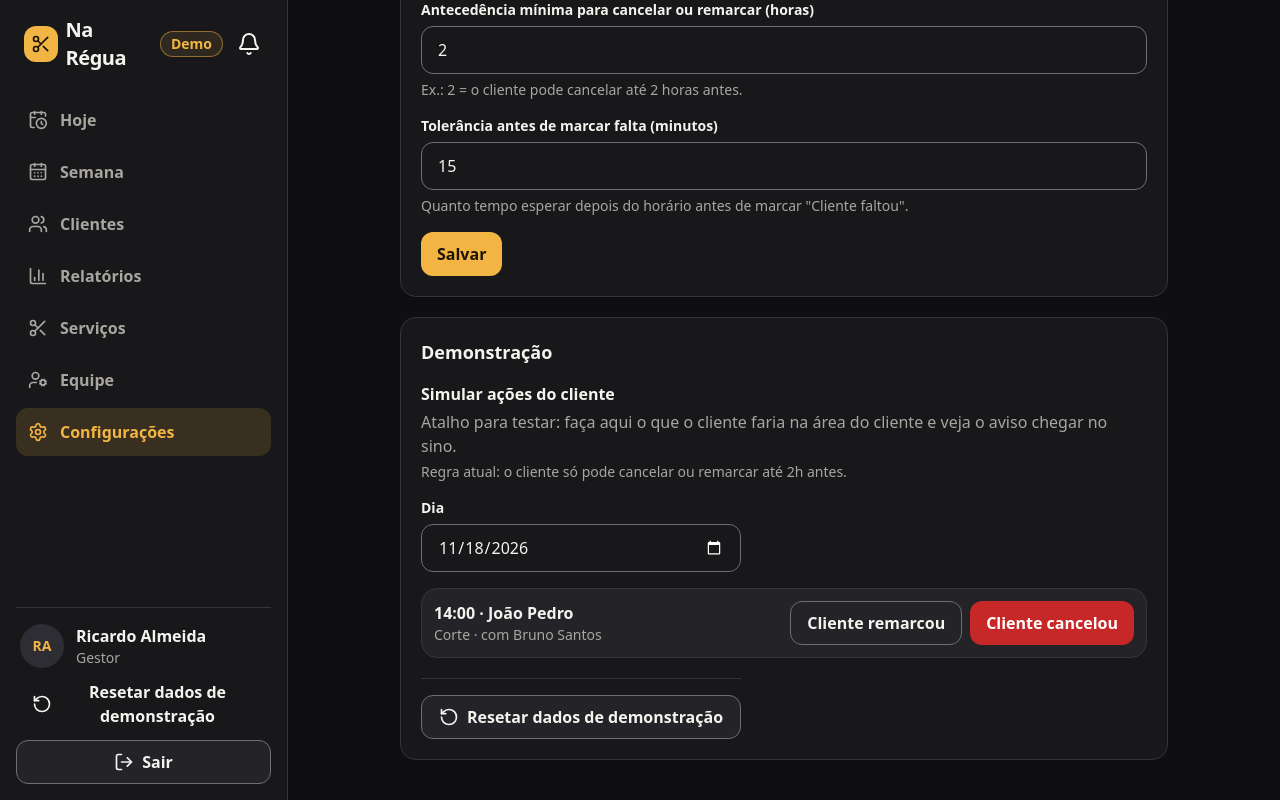
Scenario: SettingsPage › simulates the client cancelling: the notice arrives in the bell
The width and height of the screenshot is (1280, 800).
(page scrolled)
Click the button with aria-label "João Pedro cancela o horário de qua, 18/11 às 14:00": (1052, 623) top-left (970, 601), bottom-right (1134, 645)
(page scrolled)
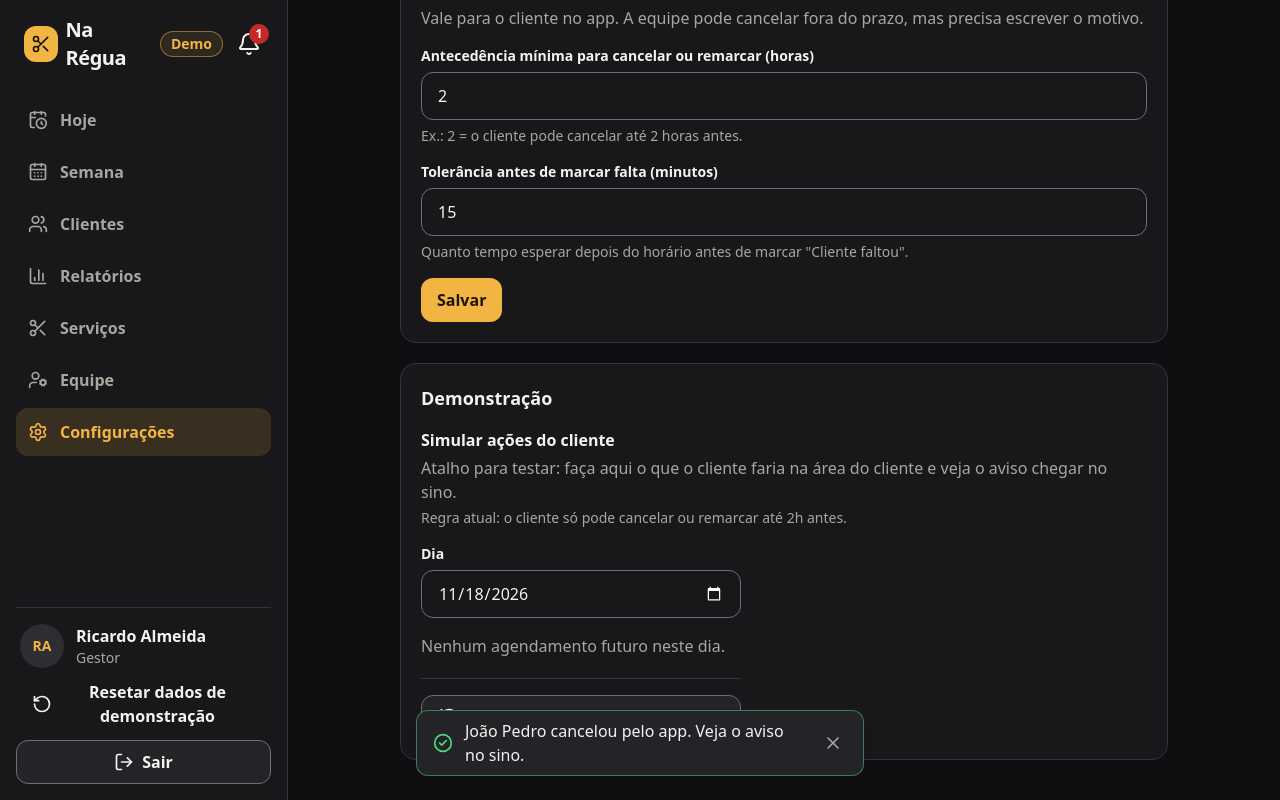
Now the text "João Pedro cancelou pelo app. Veja o aviso no sino." is shown, box top-left (465, 719), bottom-right (799, 767)
Click the button named "Avisos, 1 não lido": (249, 44) top-left (227, 22), bottom-right (271, 66)
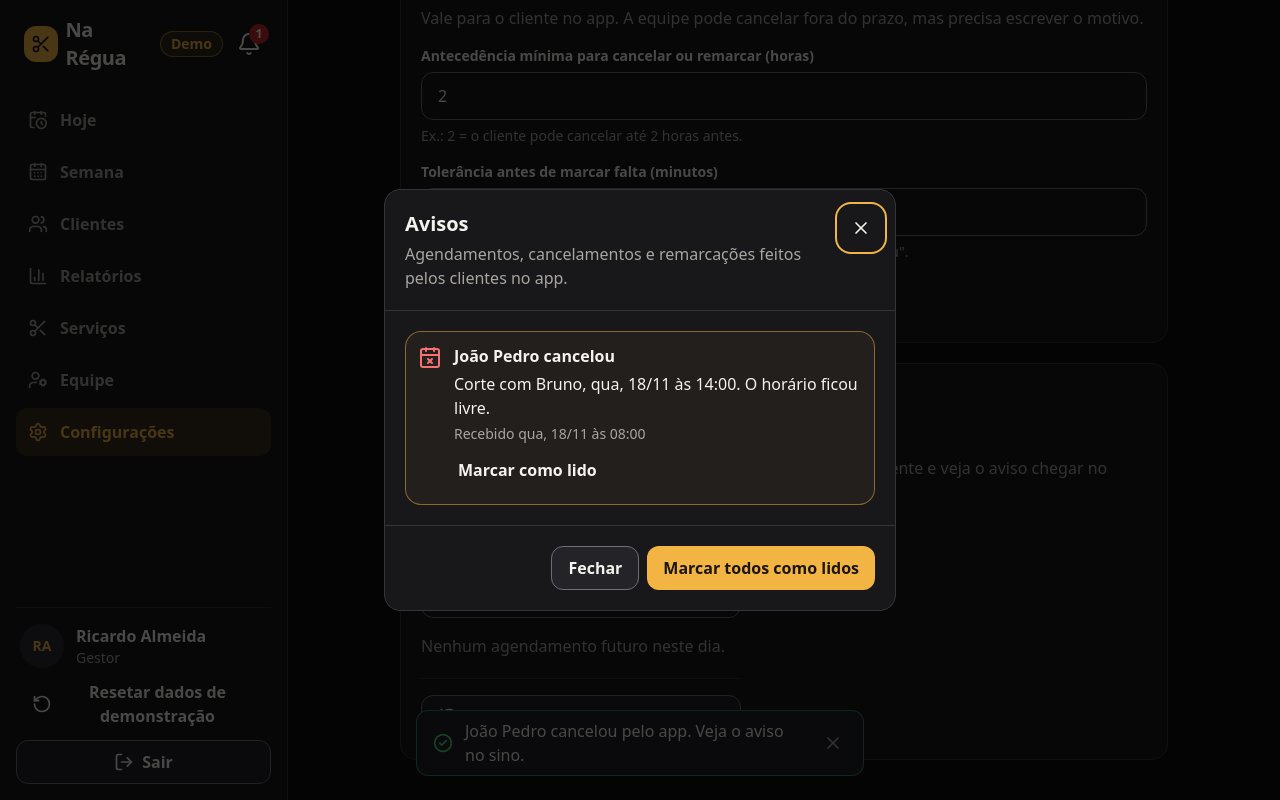
Now the heading "João Pedro cancelou" is shown, box top-left (454, 344), bottom-right (691, 367)
Now the text "Corte com Bruno, qua, 18/11 às 14:00. O horário ficou livre." is shown, box top-left (454, 372), bottom-right (862, 420)
Click the button "Marcar como lido": (527, 470) top-left (442, 448), bottom-right (613, 492)
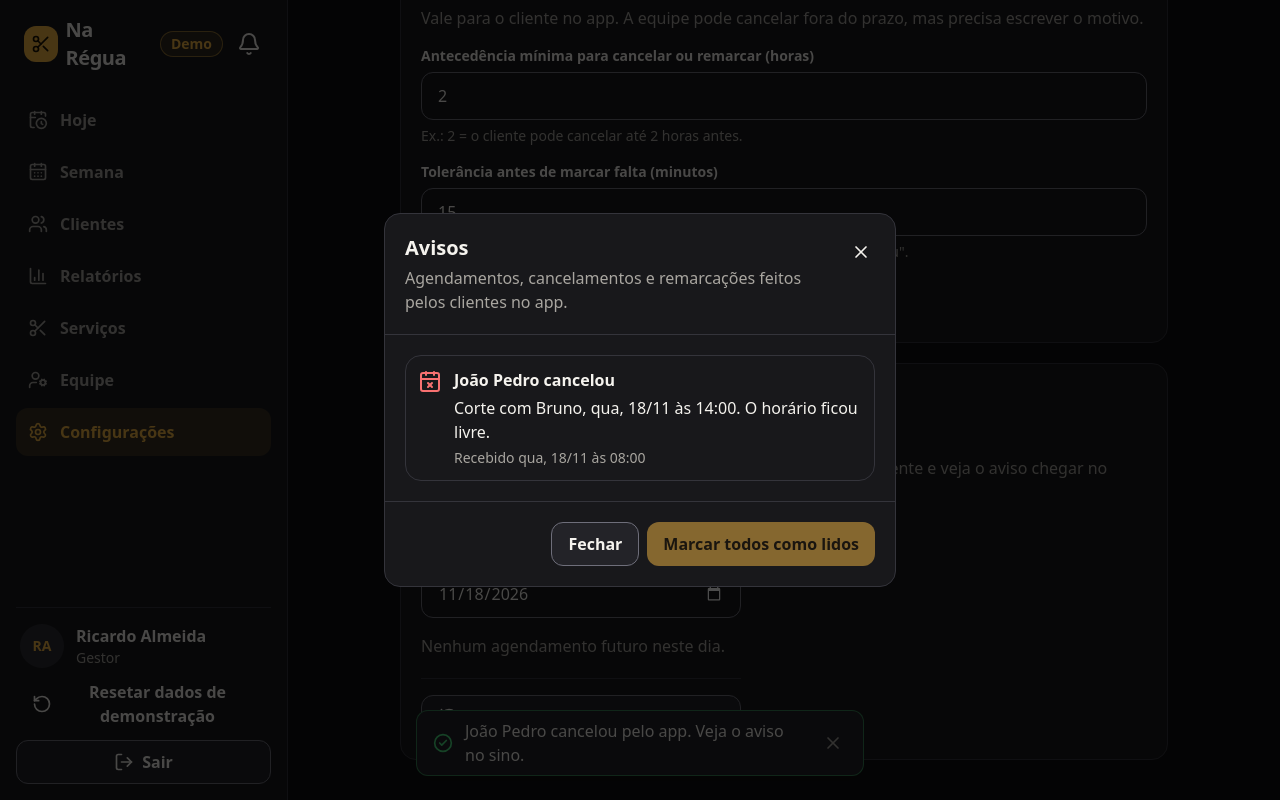
Expected: the button named "Avisos" is shown, top-left (227, 22), bottom-right (271, 66)
Now the button "Marcar todos como lidos" is disabled, box top-left (647, 522), bottom-right (875, 566)
